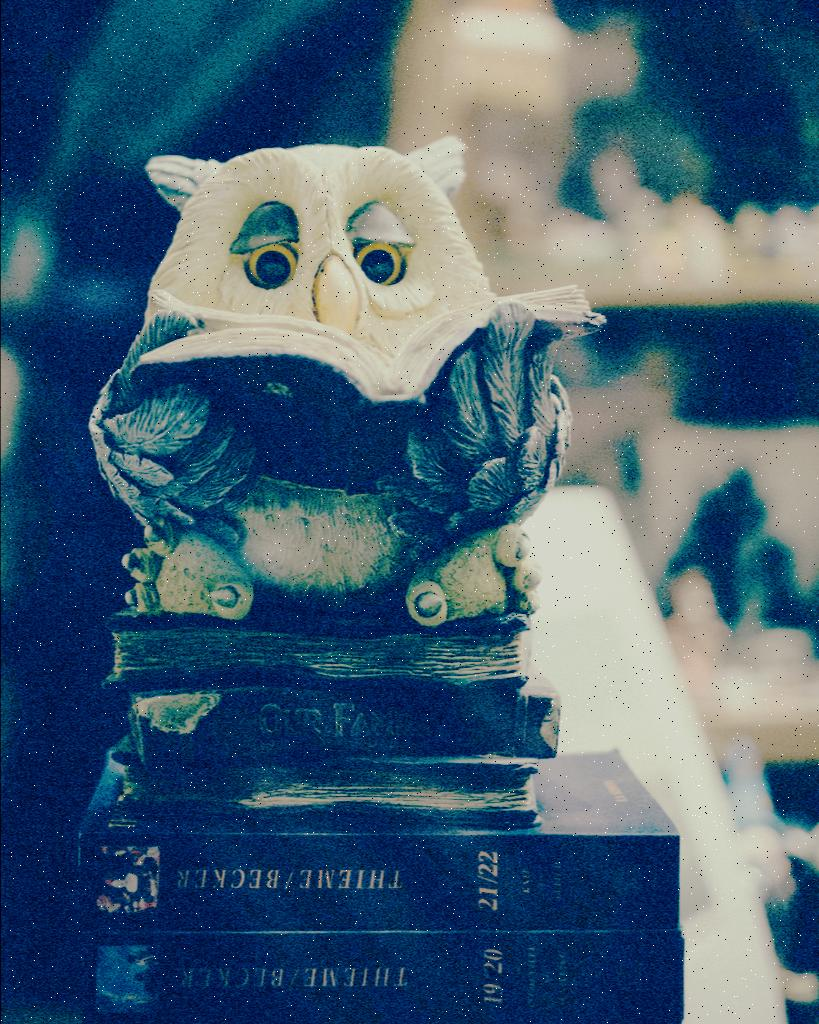Owl: (80, 144, 538, 628)
